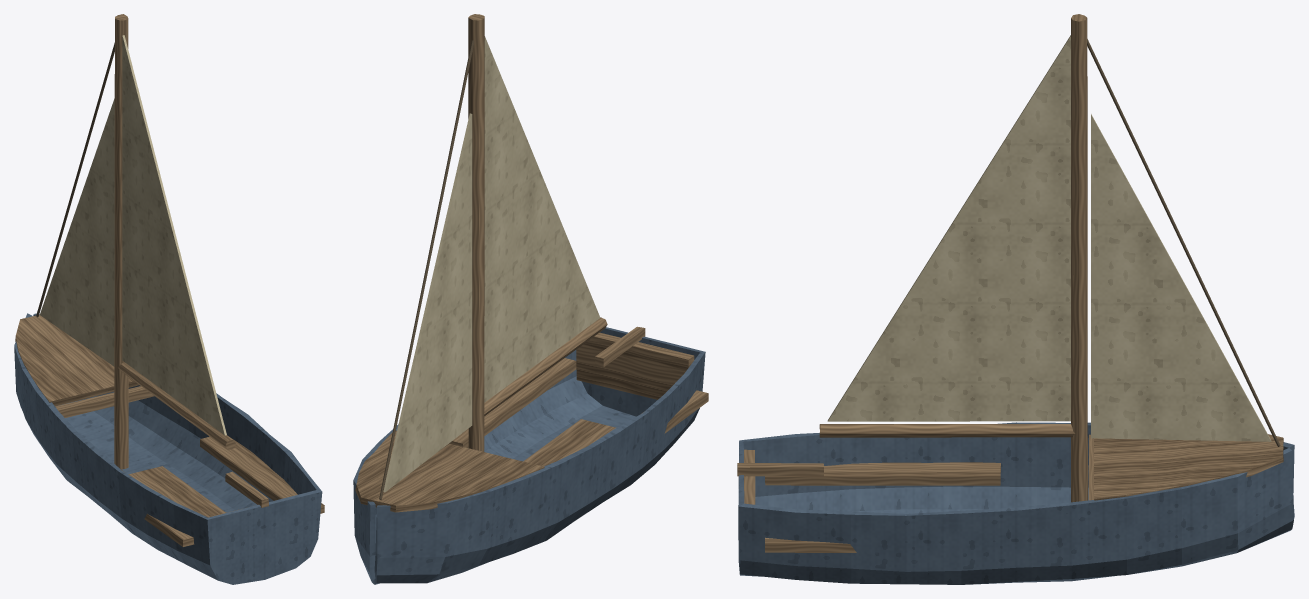
File: sailboat.glb
3 renders of one model, left to right at view 1: azimuth 30°, elevation 25°; view 2: azimuth 150°, elevation 25°; view 3: azimuth 270°, elevation 25°, orthographic. The views are drawn at different scales.
Visible parts, largest first — view 1: Sailboat; view 2: Sailboat; view 3: Sailboat.
Part boxes in pixels (<box>): Sailboat: <box>14,14,324,584</box>; Sailboat: <box>353,14,708,584</box>; Sailboat: <box>737,14,1294,584</box>.
Bounding box in the file's own units: 1.5 × 4.29 × 3.98.
Materials: 4 (3 with a texture image).
